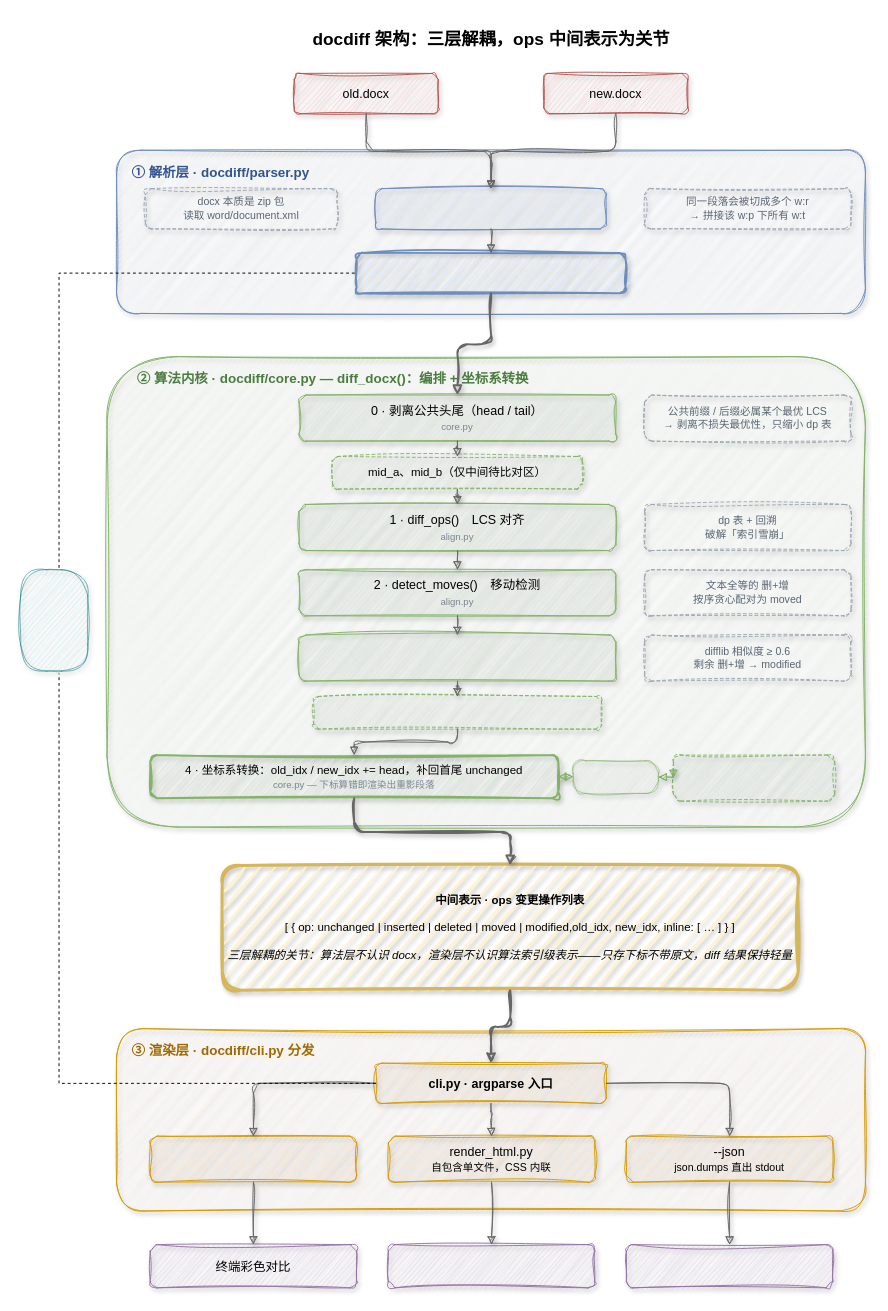
This 888x1311 diagram has some shape labels left out. The centre of each missing label's shape, as x and y in pixels:
"3 · pair_modified() 相似度配对 refine.py" belongs at pixel 458 659.
"extract_paragraphs(path)" belongs at pixel 491 210.
"HTML 左右对照页" belongs at pixel 492 1267.
"inline_diff() 段内字符级细化 refine.py · difflib opcodes（v2 换自研词级 LCS）" belongs at pixel 754 779.
"JSON + 退出码 0 / 1 / 2" belongs at pixel 730 1267.
"mid_ops（下标仍相对于 mid_a / mid_b）" belongs at pixel 458 714.
"render_term.py ANSI 转义码，零依赖" belongs at pixel 253 1160.
"仅op == modified挂载incline字段" belongs at pixel 616 778.
"传入 a、b 供渲染按下标取文本" belongs at pixel 55 621.
"段落文本列表 a、b（list[str]）" belongs at pixel 491 274.
